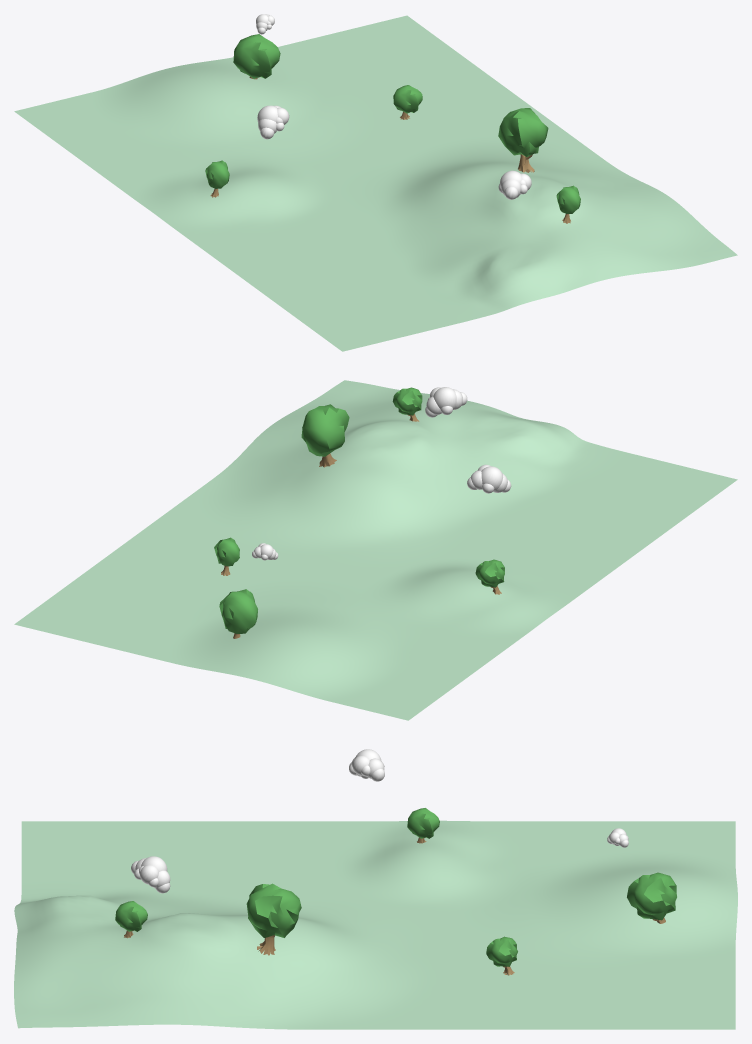
Rendered from terrain.glb.
3 renders of one model, top to bottom at view 1: azimuth 30°, elevation 25°; view 2: azimuth 150°, elevation 25°; view 3: azimuth 270°, elevation 25°, orthographic. The views are drawn at different scales.
Parts seen in each view (by area): view 1: ground, tree.3-t2, tree.5-t2, yun.1, yun, tree.2-t2; view 2: ground, tree.3-t2, tree.5-t2, yun, yun.1, tree-t2, tree.1-t2, tree.2-t2; view 3: ground, tree.3-t2, tree.5-t2, yun, yun.1, tree.1-t2, tree-t2, tree.2-t2.
Part boxes in pixels (left/top/right/bottom): ground: left=14, top=15, right=737, bottom=351; tree.3-t2: left=498, top=108, right=548, bottom=156; tree.5-t2: left=233, top=34, right=280, bottom=78; yun.1: left=257, top=105, right=289, bottom=139; yun: left=498, top=170, right=531, bottom=199; tree.2-t2: left=393, top=85, right=422, bottom=113; ground: left=14, top=380, right=737, bottom=720; tree.3-t2: left=301, top=404, right=349, bottom=456; tree.5-t2: left=219, top=589, right=257, bottom=633; yun: left=425, top=387, right=467, bottom=417; yun.1: left=467, top=464, right=511, bottom=493; tree-t2: left=392, top=387, right=422, bottom=415; tree.1-t2: left=475, top=559, right=504, bottom=587; tree.2-t2: left=214, top=537, right=239, bottom=566; ground: left=14, top=820, right=737, bottom=1029; tree.3-t2: left=246, top=883, right=301, bottom=938; tree.5-t2: left=627, top=872, right=676, bottom=920; yun: left=131, top=856, right=170, bottom=893; yun.1: left=349, top=749, right=384, bottom=781; tree.1-t2: left=407, top=808, right=439, bottom=838; tree-t2: left=115, top=901, right=147, bottom=931; tree.2-t2: left=486, top=936, right=517, bottom=966.
Bounding box in the file's own units: 73.77 × 19.55 × 107.
